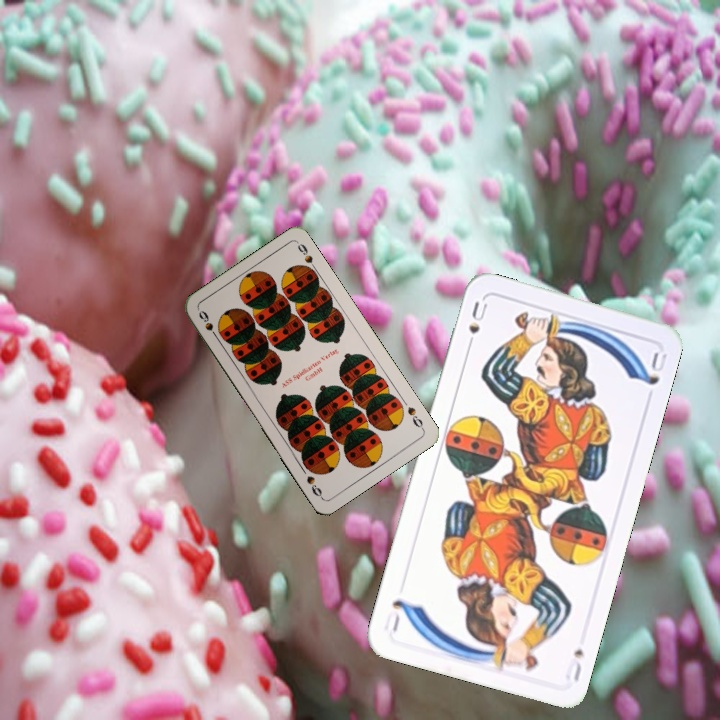S9: (194, 306, 222, 343), (403, 403, 427, 432)
SU: (463, 297, 490, 354), (561, 644, 586, 685)
